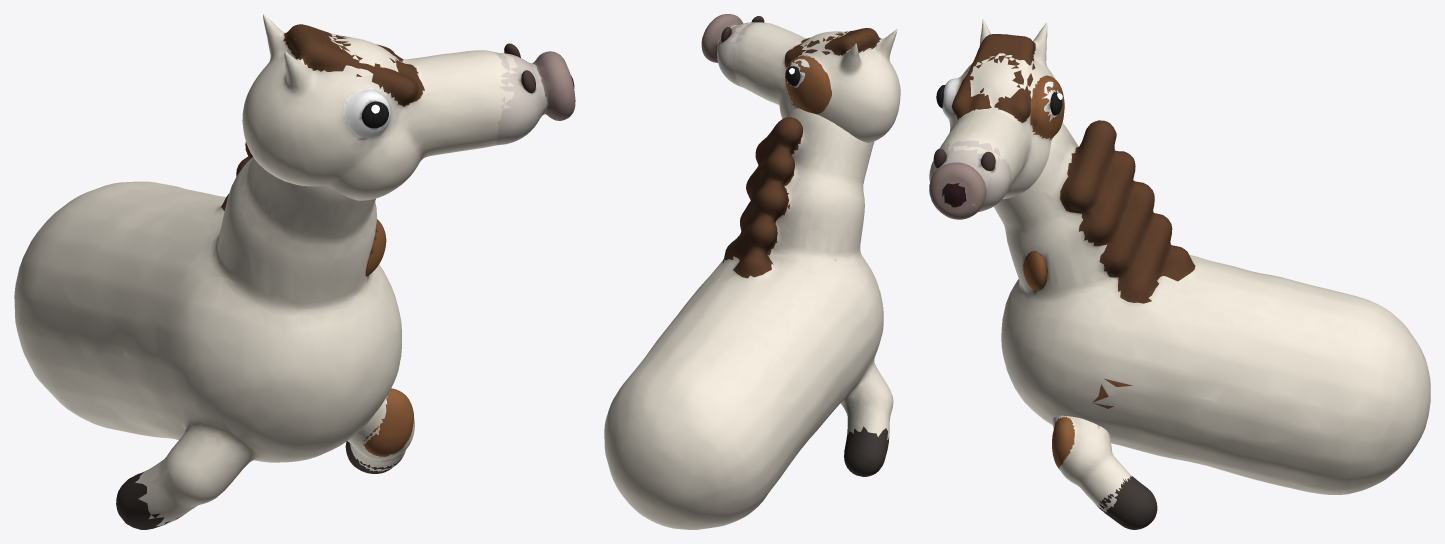
File: tvattmaskinen-ar-trasig.glb
3 renders of one model, left to right at view 1: azimuth 30°, elevation 25°; view 2: azimuth 150°, elevation 25°; view 3: azimuth 270°, elevation 25°, orthographic. The views are drawn at different scales.
Parts seen in each view (by area): view 1: ponei__r0, cabeca__r0, pataD__r0; view 2: ponei__r0, cabeca__r0; view 3: ponei__r0, cabeca__r0, pataD__r0, ponei__r2.
Boxes of the visible parts, x1=… form: ponei__r0: x1=14, y1=142, x2=401, y2=529; cabeca__r0: x1=242, y1=14, x2=575, y2=200; pataD__r0: x1=345, y1=388, x2=414, y2=473; ponei__r0: x1=604, y1=108, x2=893, y2=529; cabeca__r0: x1=701, y1=14, x2=900, y2=142; ponei__r0: x1=993, y1=120, x2=1430, y2=494; cabeca__r0: x1=929, y1=19, x2=1064, y2=219; pataD__r0: x1=1052, y1=415, x2=1157, y2=529; ponei__r2: x1=1023, y1=251, x2=1047, y2=290.
Bounding box in the file's own units: 1.05 × 1.58 × 1.62.
